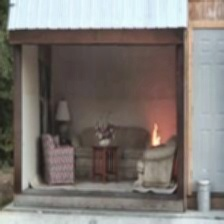fire: (142, 117, 171, 159)
